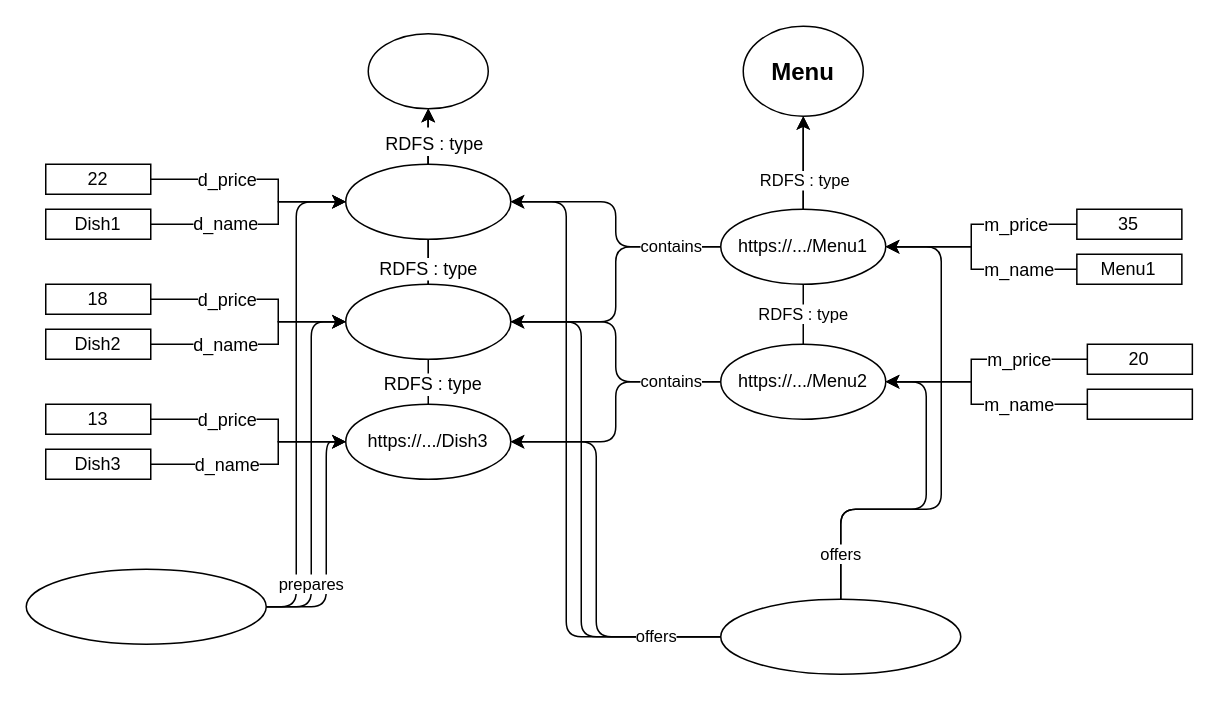
This 1220x701 diagram has some shape labels left out. Each missing label, with the centre of its shape:
"Dish" goes at pixel 427 70.
"https://.../Dish1" goes at pixel 427 201.
"https://.../Dish2" goes at pixel 427 321.
"https://.../Jules" goes at pixel 145 606.
"https://.../Le_Cygne" goes at pixel 840 636.
"Menu2" goes at pixel 1139 403.
